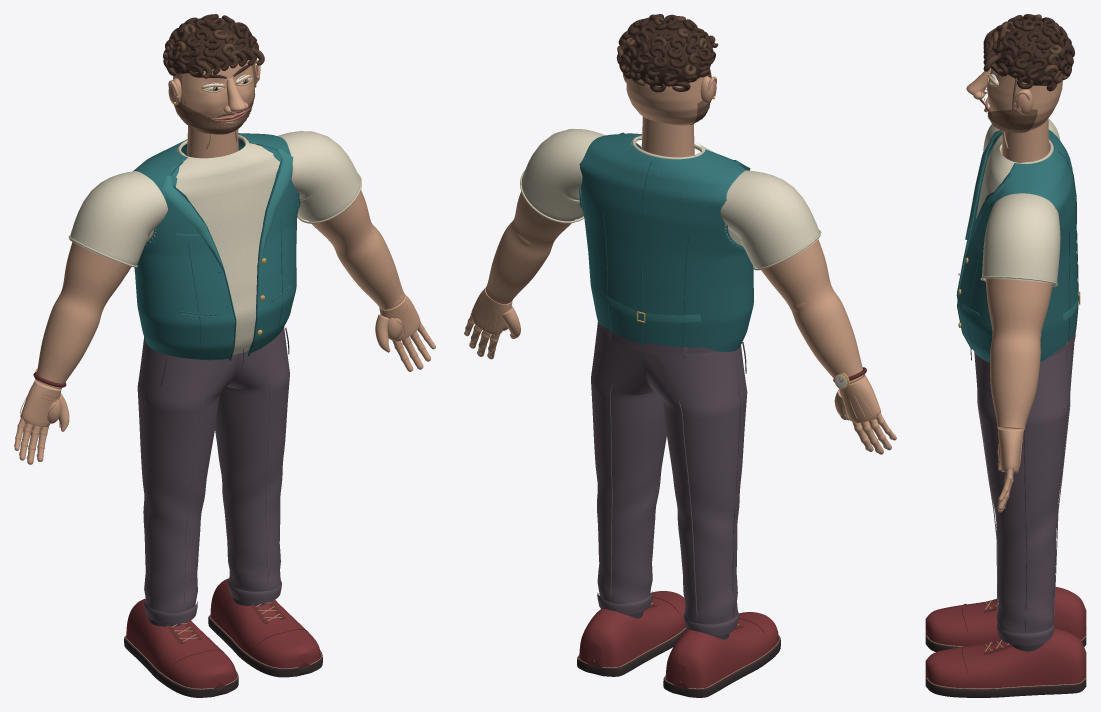
3 renders of one model, left to right at view 1: azimuth 30°, elevation 25°; view 2: azimuth 150°, elevation 25°; view 3: azimuth 270°, elevation 25°, orthographic. The views are drawn at different scales.
Visible parts, largest first — view 1: Trousers / continuous hip crotch and two legs, Waistcoat / open front, complete back, lined armholes, Soft jersey / complete torso, Left arm / bicep elbow wrist, Left short jersey sleeve, Right shoe / Leather upper, Left shoe / Leather upper, Right short jersey sleeve, Right arm / bicep elbow wrist, Curl sculpt, Head / square jaw sculpted cheeks and sockets, Neck (+8 smaller); view 2: Trousers / continuous hip crotch and two legs, Waistcoat / open front, complete back, lined armholes, Left short jersey sleeve, Left arm / bicep elbow wrist, Left shoe / Leather upper, Right shoe / Leather upper, Right short jersey sleeve, Right arm / bicep elbow wrist, Curl sculpt, Head / square jaw sculpted cheeks and sockets, Neck, Hair / complete sculpted cap and nape (+5 smaller); view 3: Trousers / continuous hip crotch and two legs, Waistcoat / open front, complete back, lined armholes, Right arm / bicep elbow wrist, Right shoe / Leather upper, Right short jersey sleeve, Curl sculpt (×3), Left shoe / Leather upper, Head / square jaw sculpted cheeks and sockets, Right shoe / Outsole, Neck, Hair / complete sculpted cap and nape, Soft jersey / complete torso (+11 smaller).
Boxes of the visible parts, box(x1,y1,x2,y2) form: Trousers / continuous hip crotch and two legs: box(137, 327, 289, 624); Waistcoat / open front, complete back, lined armholes: box(133, 133, 298, 360); Soft jersey / complete torso: box(146, 140, 280, 355); Left arm / bicep elbow wrist: box(35, 242, 131, 389); Left short jersey sleeve: box(69, 171, 167, 265); Right shoe / Leather upper: box(210, 578, 320, 668); Left shoe / Leather upper: box(126, 598, 236, 689); Right short jersey sleeve: box(278, 131, 360, 220); Right arm / bicep elbow wrist: box(309, 190, 404, 309); Curl sculpt: box(163, 14, 258, 77); Head / square jaw sculpted cheeks and sockets: box(173, 60, 254, 134); Neck: box(186, 125, 238, 158); Trousers / continuous hip crotch and two legs: box(591, 322, 747, 636); Waistcoat / open front, complete back, lined armholes: box(579, 133, 753, 351); Left short jersey sleeve: box(720, 170, 820, 268); Left arm / bicep elbow wrist: box(761, 239, 864, 383); Left shoe / Leather upper: box(665, 612, 778, 689); Right shoe / Leather upper: box(579, 591, 685, 668); Right short jersey sleeve: box(521, 128, 605, 220); Right arm / bicep elbow wrist: box(485, 191, 574, 304); Curl sculpt: box(616, 14, 715, 92); Head / square jaw sculpted cheeks and sockets: box(626, 72, 708, 125); Neck: box(641, 116, 694, 157); Hair / complete sculpted cap and nape: box(623, 20, 706, 86); Trousers / continuous hip crotch and two legs: box(974, 341, 1074, 646); Waistcoat / open front, complete back, lined armholes: box(958, 130, 1077, 362); Right arm / bicep elbow wrist: box(985, 278, 1052, 429); Right shoe / Leather upper: box(925, 628, 1086, 688); Right short jersey sleeve: box(982, 193, 1060, 284); Curl sculpt (×3): box(988, 14, 1074, 91); Left shoe / Leather upper: box(925, 587, 1086, 646); Head / square jaw sculpted cheeks and sockets: box(987, 63, 1062, 130); Right shoe / Outsole: box(925, 678, 1086, 697); Neck: box(1002, 118, 1049, 162); Hair / complete sculpted cap and nape: box(994, 19, 1065, 85); Soft jersey / complete torso: box(976, 135, 1053, 218).
Size of the model in its own units: 1.45 by 2.06 by 0.4708.
Materials: 33 (4 with a texture image).
